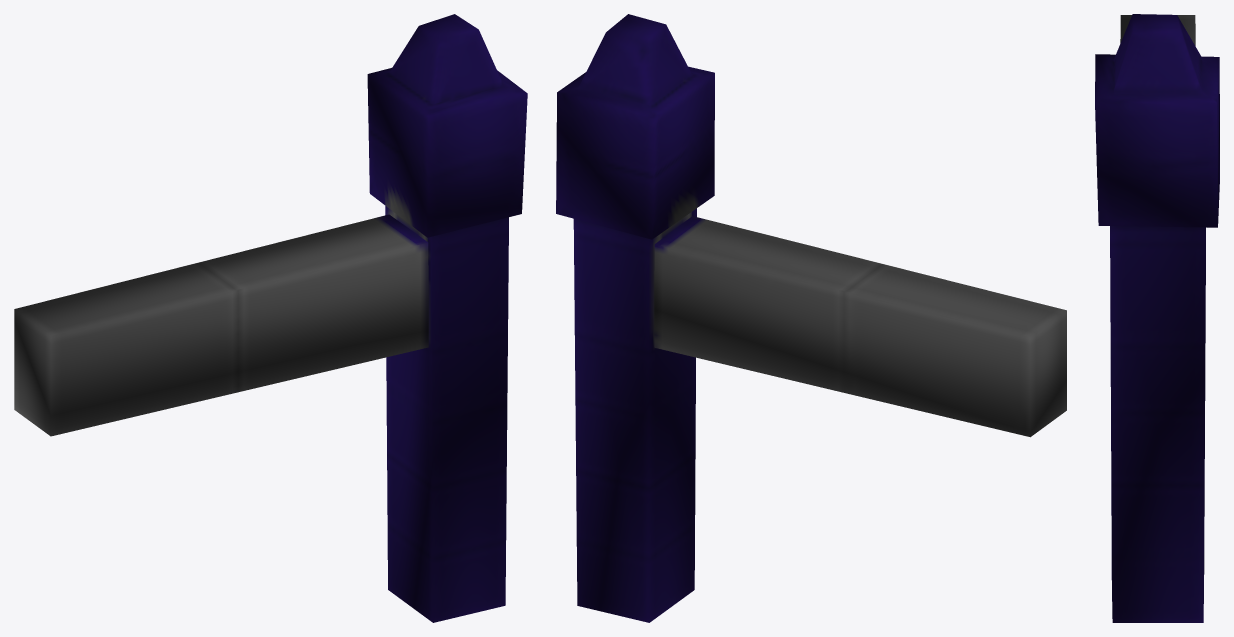
The model's file is SuportPilarGuard.fbx.
3 views of the same model, side by side, from view 1: azimuth 30°, elevation 25°; view 2: azimuth 150°, elevation 25°; view 3: azimuth 270°, elevation 25° (orthographic). The views are drawn at different scales.
Visible parts, largest first — view 1: SuportPilarGuard_LowPoly; view 2: SuportPilarGuard_LowPoly; view 3: SuportPilarGuard_LowPoly.
Part boxes in pixels (x1=…): SuportPilarGuard_LowPoly: x1=14, y1=14, x2=527, y2=622; SuportPilarGuard_LowPoly: x1=556, y1=14, x2=1066, y2=622; SuportPilarGuard_LowPoly: x1=1095, y1=14, x2=1219, y2=622.
Size of the model in its own units: 70.59 by 83.08 by 16.13.
